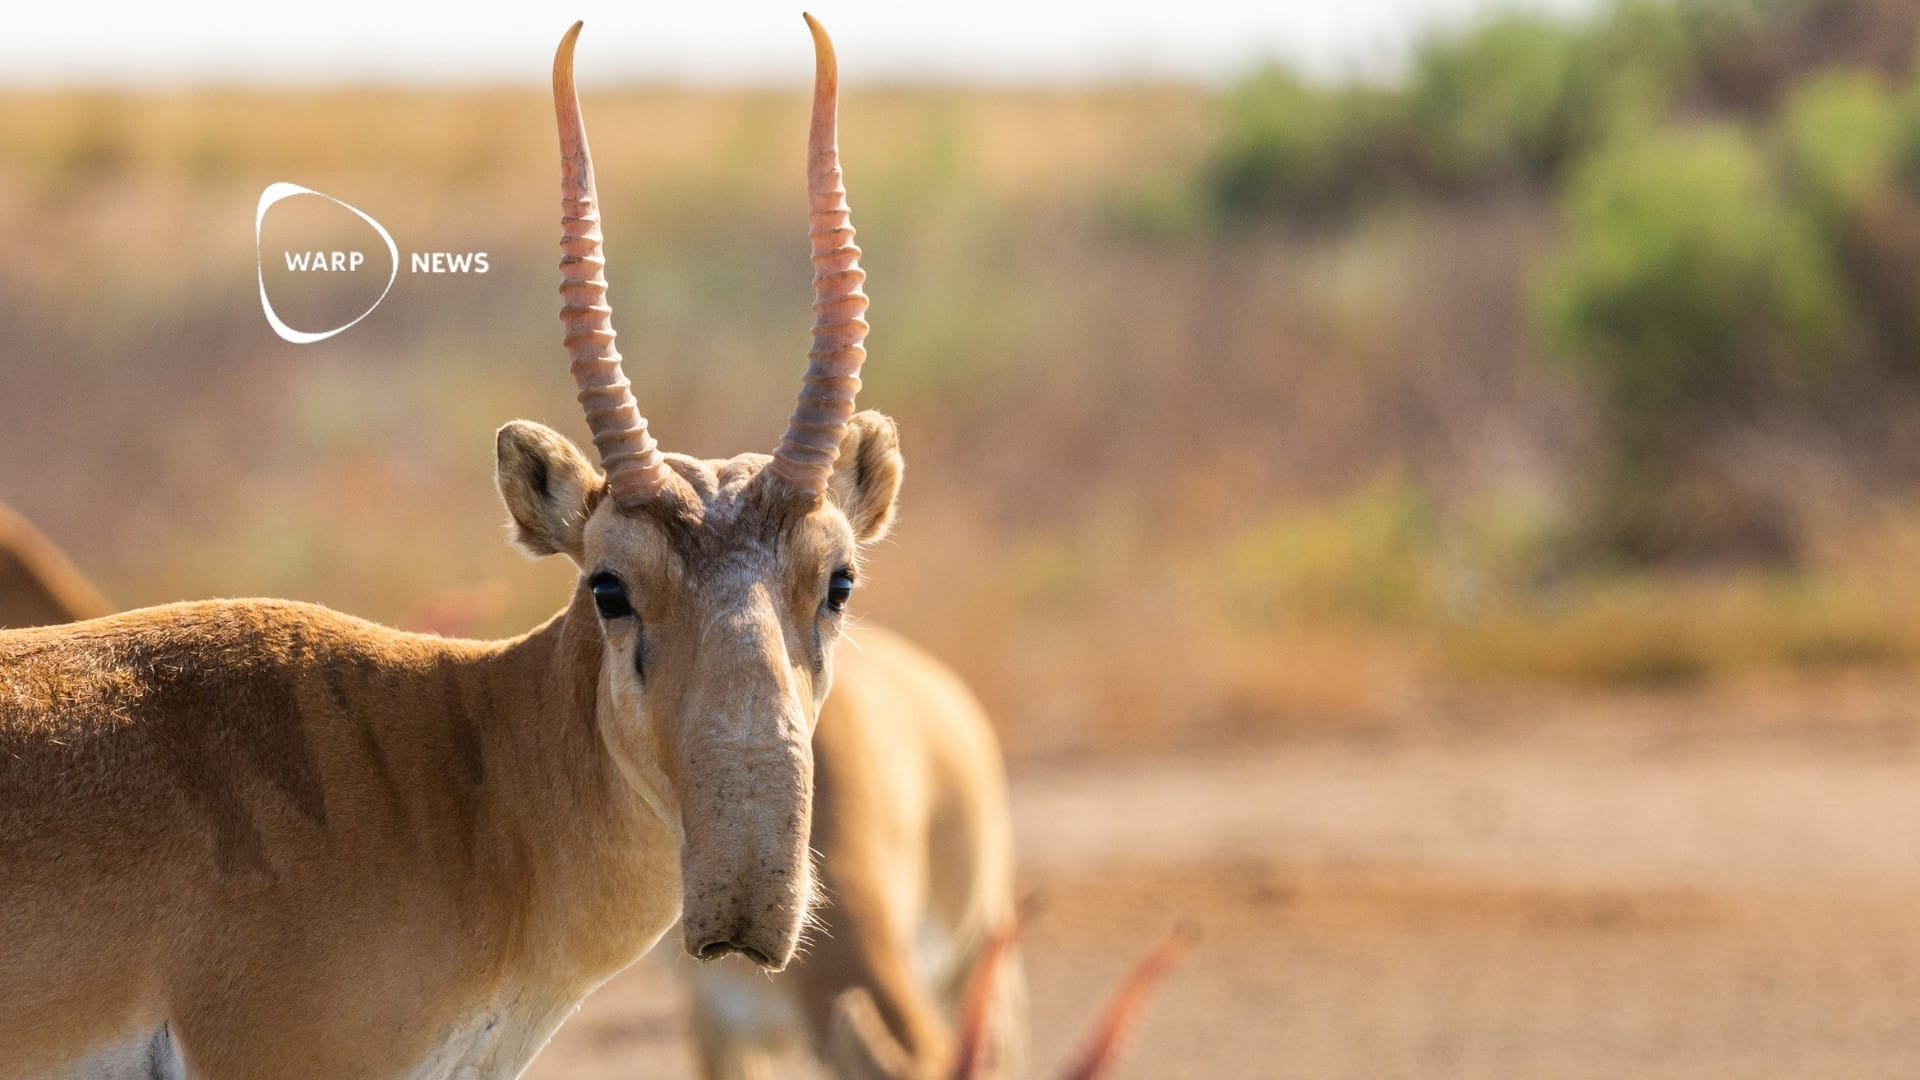saiga: (3, 15, 905, 1077)
